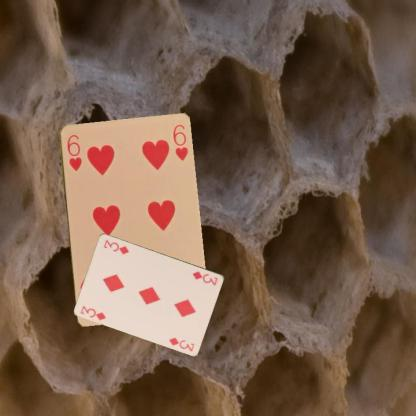3d: (190, 268, 219, 286), (78, 303, 107, 321)
6h: (64, 132, 83, 172)
